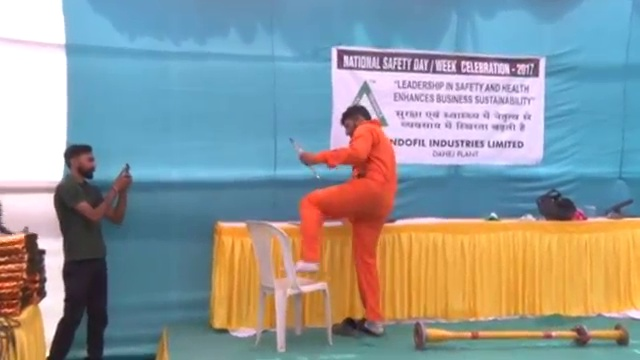helmet_off: (61, 144, 97, 182), (340, 105, 372, 140)
person: (294, 106, 399, 336), (41, 145, 135, 360)
